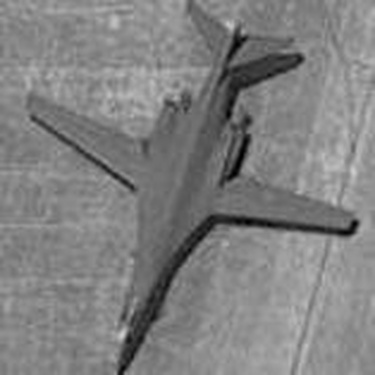airplane: (17, 1, 361, 372)
